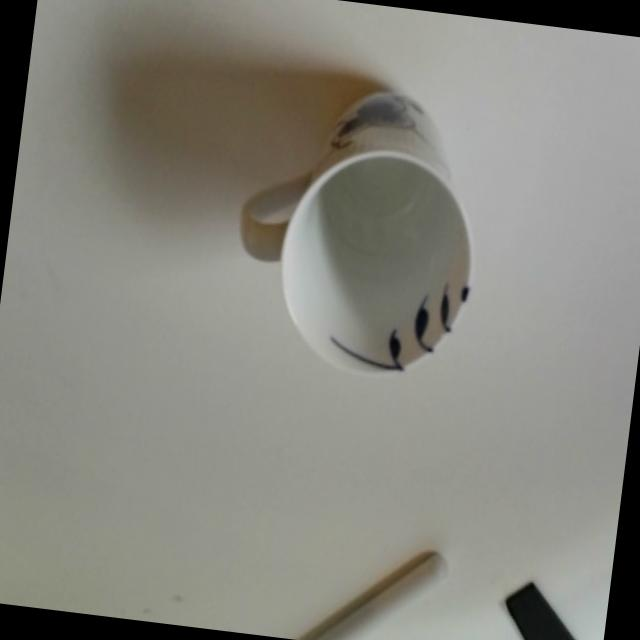Hand painted cup: (240, 72, 492, 389)
